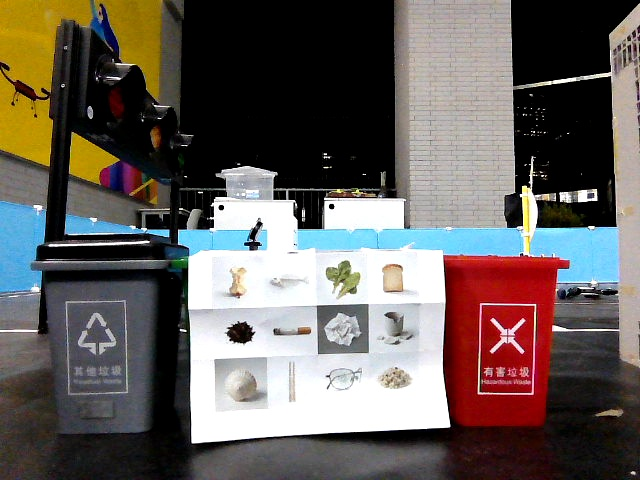food_trash: (317, 255, 368, 304), (263, 258, 315, 305), (370, 257, 419, 303), (212, 257, 258, 306), (214, 311, 262, 357), (371, 355, 417, 398)
other_trash: (215, 360, 266, 409), (266, 310, 316, 356), (316, 355, 368, 398), (370, 306, 418, 352), (319, 307, 366, 350), (268, 359, 312, 404)
